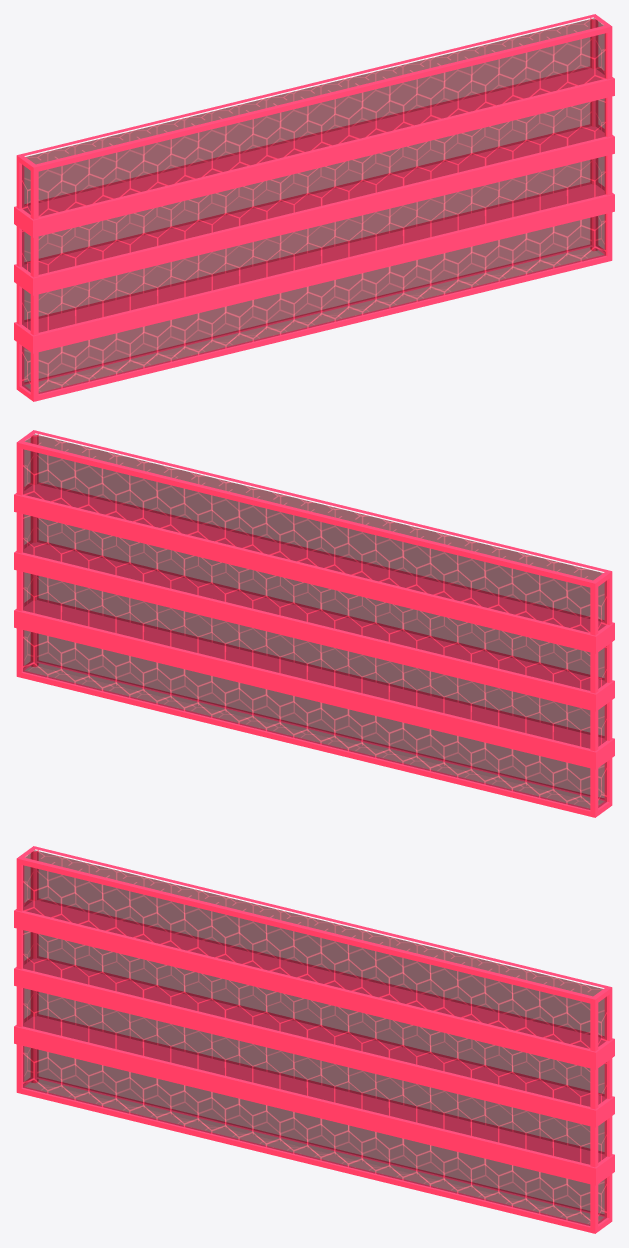
Rendered from kb_gate_low.glb.
3 views of the same model, one above another, from view 1: azimuth 30°, elevation 25°; view 2: azimuth 150°, elevation 25°; view 3: azimuth 330°, elevation 25° (orthographic).
Parts seen in each view (by area): view 1: skin; view 2: skin; view 3: skin.
Part boxes in pixels (x1=…): skin: x1=14, y1=14, x2=614, y2=401; skin: x1=14, y1=430, x2=614, y2=817; skin: x1=14, y1=846, x2=614, y2=1233.
Size of the model in its own units: 14.2 by 5.46 by 0.8.
